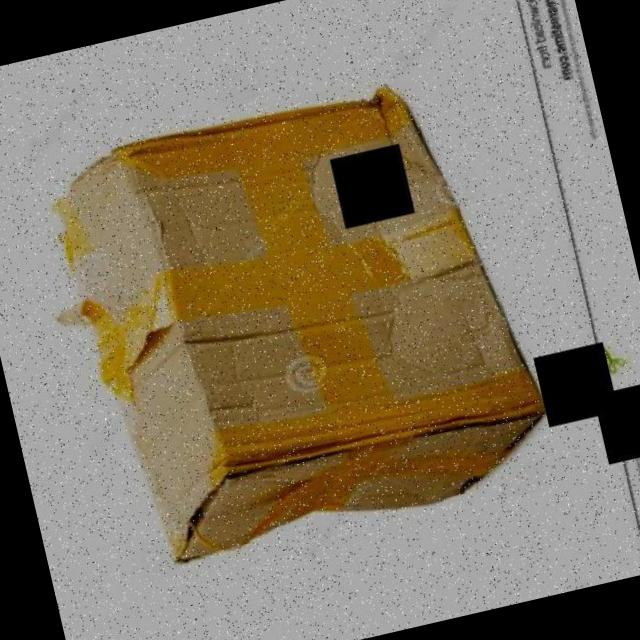box: (27, 58, 568, 588)
